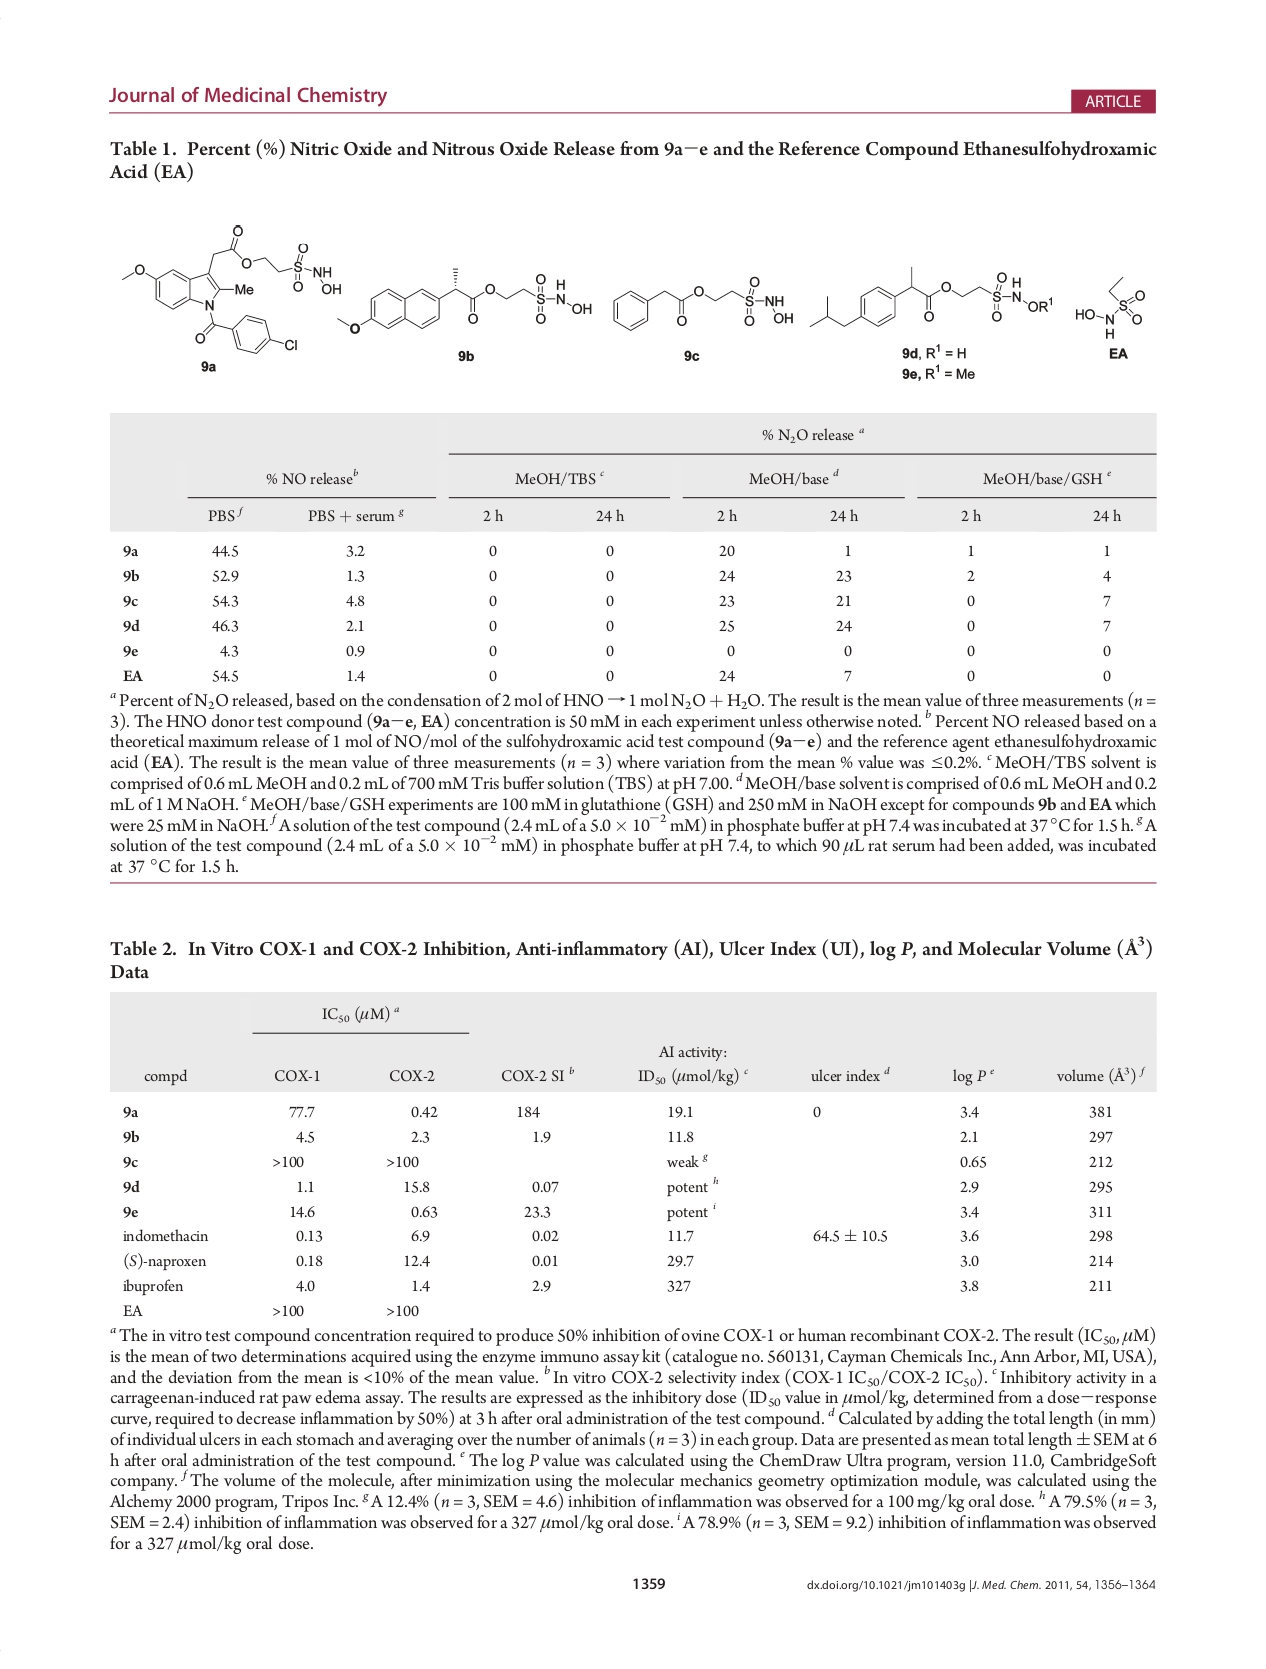exist_molecular: (118, 226, 342, 355), (809, 263, 1152, 343), (334, 263, 594, 336), (610, 277, 797, 336)
